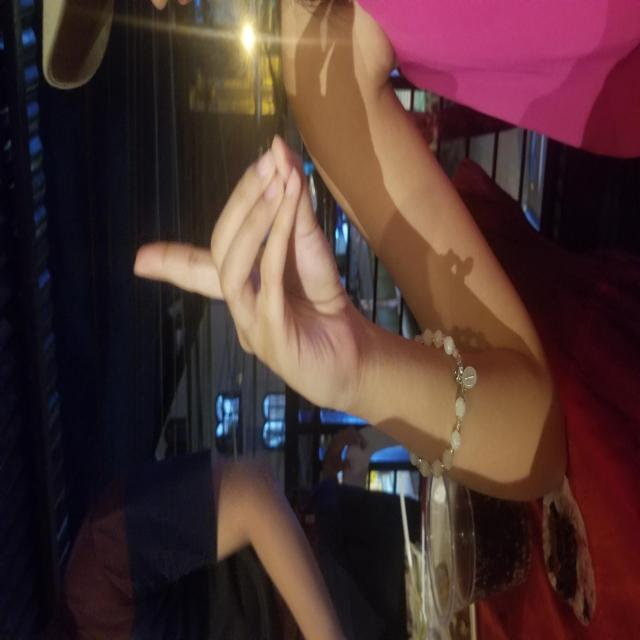D: (268, 135, 506, 351)
